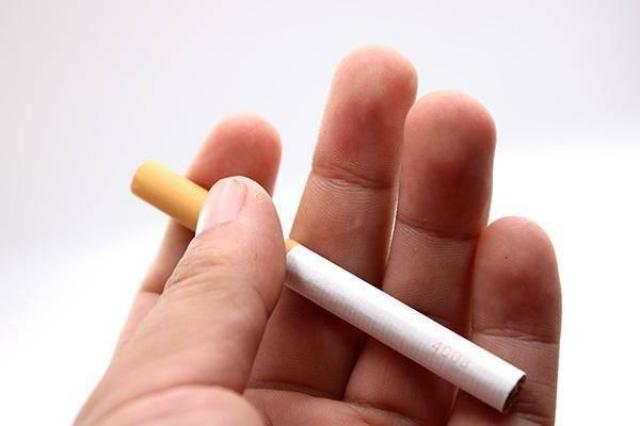Cigarette: (129, 158, 526, 414)
